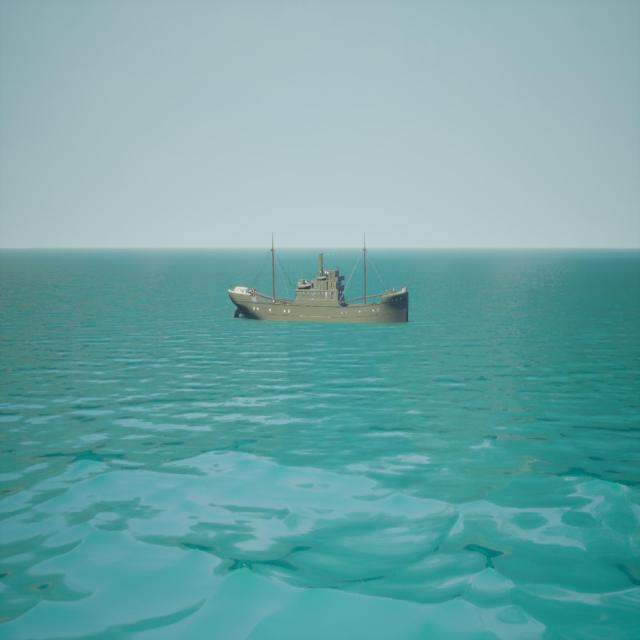fishing ship: (228, 235, 413, 324)
